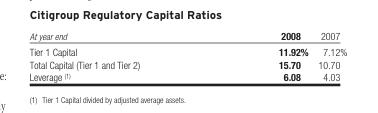table: (28, 28, 346, 82)
table column: (28, 28, 208, 82), (208, 28, 312, 82), (312, 28, 346, 82)
table column header: (28, 28, 346, 43)
table row: (28, 28, 346, 43), (28, 43, 346, 57), (28, 57, 346, 70), (28, 70, 346, 82)
